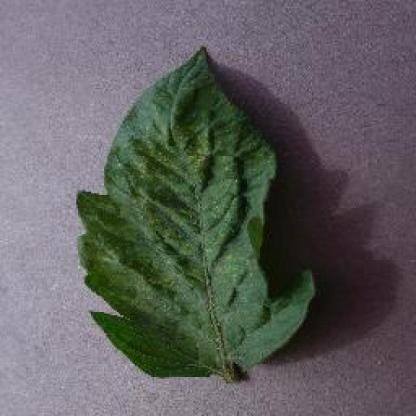Tomato_Spider_Mites: (77, 47, 314, 375)
